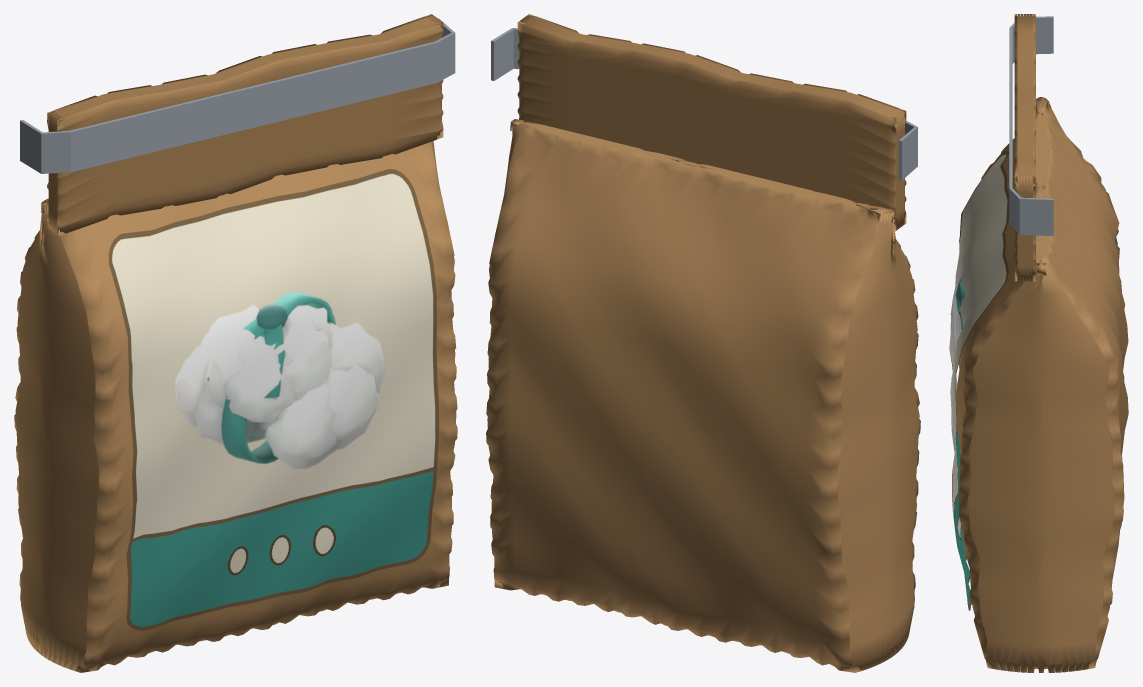
The model's file is cotton_seed.glb.
3 views of the same model, side by side, from view 1: azimuth 30°, elevation 25°; view 2: azimuth 150°, elevation 25°; view 3: azimuth 270°, elevation 25° (orthographic). The views are drawn at different scales.
Parts seen in each view (by area): view 1: CottonSeed_Label, CottonSeed_Body, CottonSeed_Fold, CottonSeed_Tie; view 2: CottonSeed_Body, CottonSeed_Fold, CottonSeed_Tie; view 3: CottonSeed_Body, CottonSeed_Label, CottonSeed_Fold, CottonSeed_Tie.
Boxes of the visible parts, x1,y1,x2,y2 form: CottonSeed_Label: (108, 169, 438, 630); CottonSeed_Body: (14, 141, 457, 672); CottonSeed_Fold: (47, 14, 443, 235); CottonSeed_Tie: (20, 18, 455, 173); CottonSeed_Body: (486, 119, 920, 672); CottonSeed_Fold: (517, 14, 906, 231); CottonSeed_Tie: (491, 28, 917, 180); CottonSeed_Body: (956, 97, 1128, 672); CottonSeed_Label: (949, 150, 1009, 610); CottonSeed_Fold: (1014, 14, 1035, 281); CottonSeed_Tie: (1009, 16, 1053, 235).
Bounding box in the file's own units: 0.0917 × 0.1152 × 0.0378.
4 materials, 1 textured.
